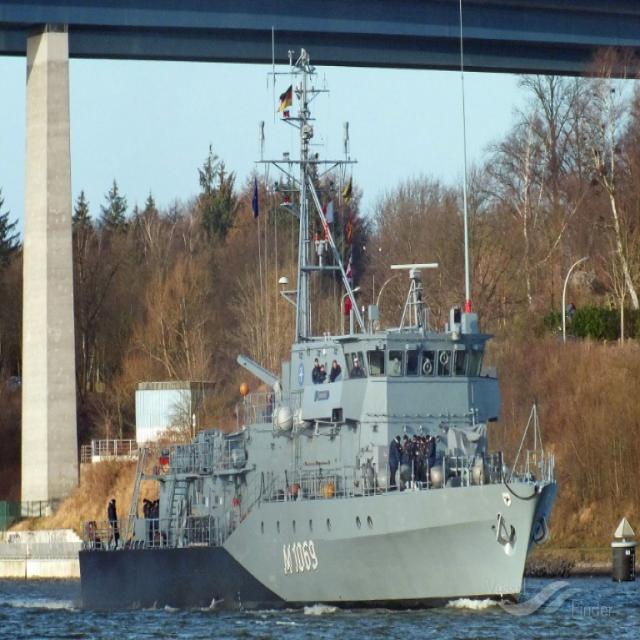OCR: (277, 539, 324, 582)
